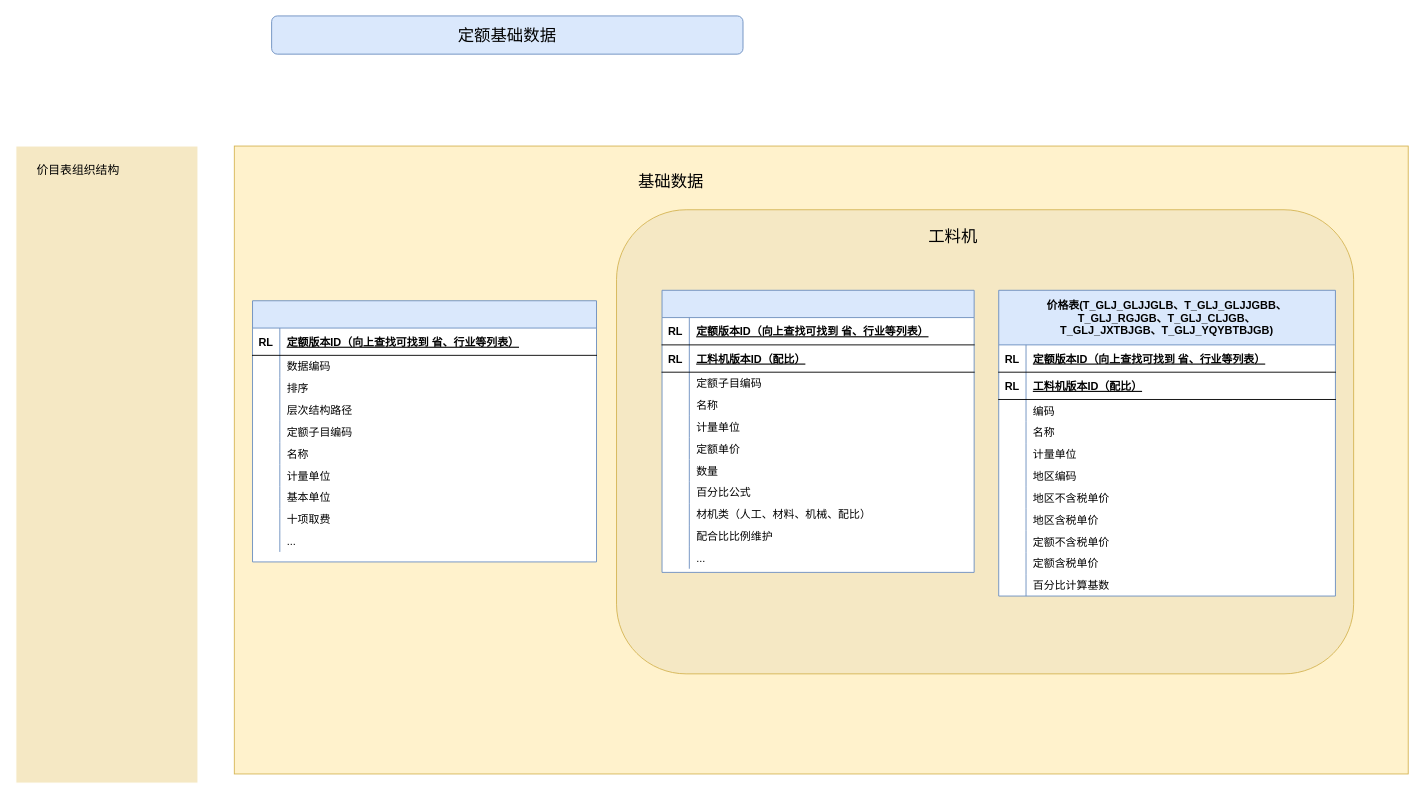
The diagram is 1424 pixels wide and 799 high, and some of its shapes have lost their labels. The box of each missing label's shape, as (x1, y1, x2, y2) in pixels:
定额目录列表(T_DEB_DEZMMLJZJSM, T_DEB_DEZM): (252, 300, 597, 562)
消耗量数据(T_DEB_DEZM_XHLWH、T_GLJ_PBGCB): (661, 289, 974, 572)
